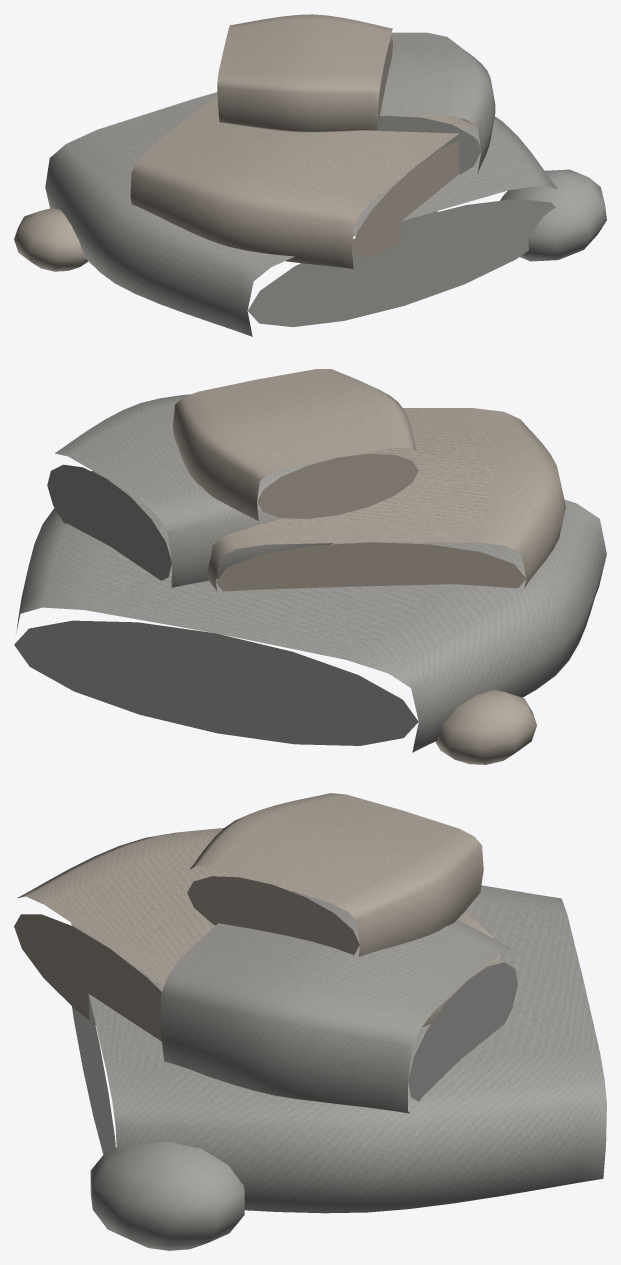
The model's file is exotic-wildlife-hd-rock-outcrop-c9ed671f__30228.glb.
3 views of the same model, one above another, from view 1: azimuth 30°, elevation 25°; view 2: azimuth 150°, elevation 25°; view 3: azimuth 270°, elevation 25° (orthographic). The views are drawn at different scales.
Visible parts, largest first — view 1: rock-outcrop; view 2: rock-outcrop; view 3: rock-outcrop.
Part boxes in pixels (left/top/right/bottom): rock-outcrop: left=14, top=14, right=606, bottom=336; rock-outcrop: left=14, top=369, right=606, bottom=764; rock-outcrop: left=14, top=793, right=606, bottom=1250.
Size of the model in its own units: 5.78 by 2.39 by 4.58.
Materials: 2 (2 with a texture image).
